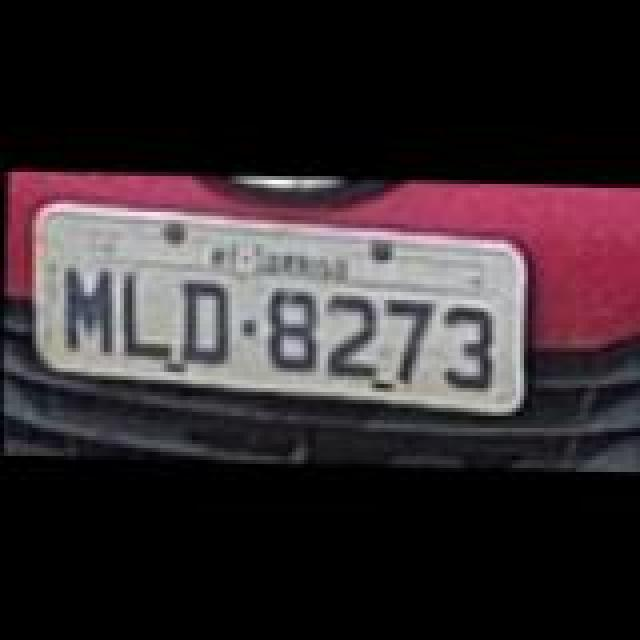2: (322, 288, 378, 372)
3: (442, 302, 498, 386)
7: (384, 296, 436, 380)
8: (266, 284, 322, 368)
D: (180, 276, 232, 360)
L: (120, 266, 180, 354)
M: (64, 264, 116, 352)
